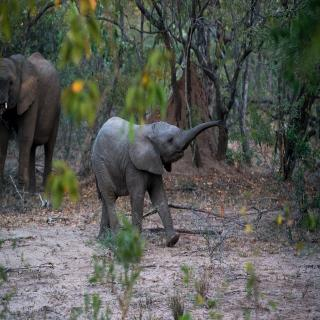Elephant: (89, 108, 224, 251), (0, 46, 67, 194)
